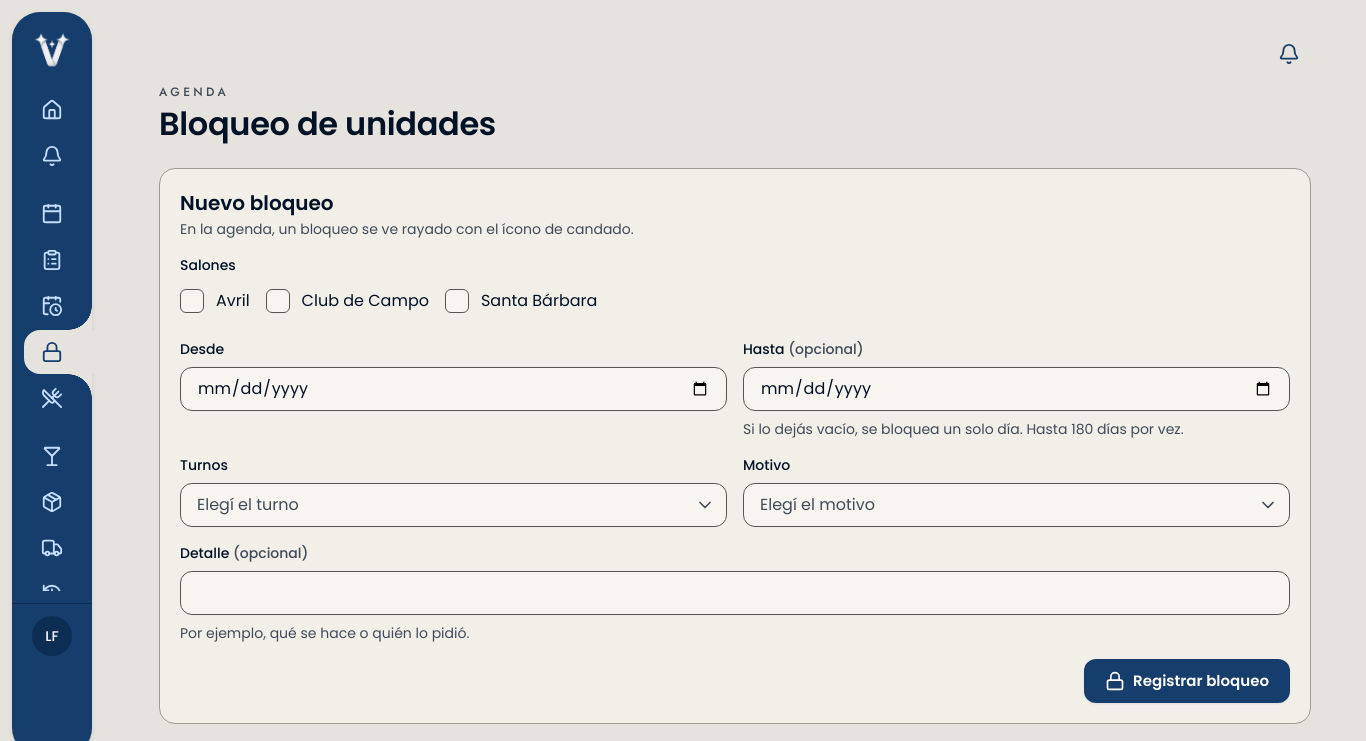
Test: UI-21 · bloqueo de unidades › un solo día y un solo turno: manda hasta vacío y ese turno
This screenshot has width=1366, height=741.
Click the checkbox labelled "Avril": click(192, 301) left=180, top=289, right=204, bottom=313
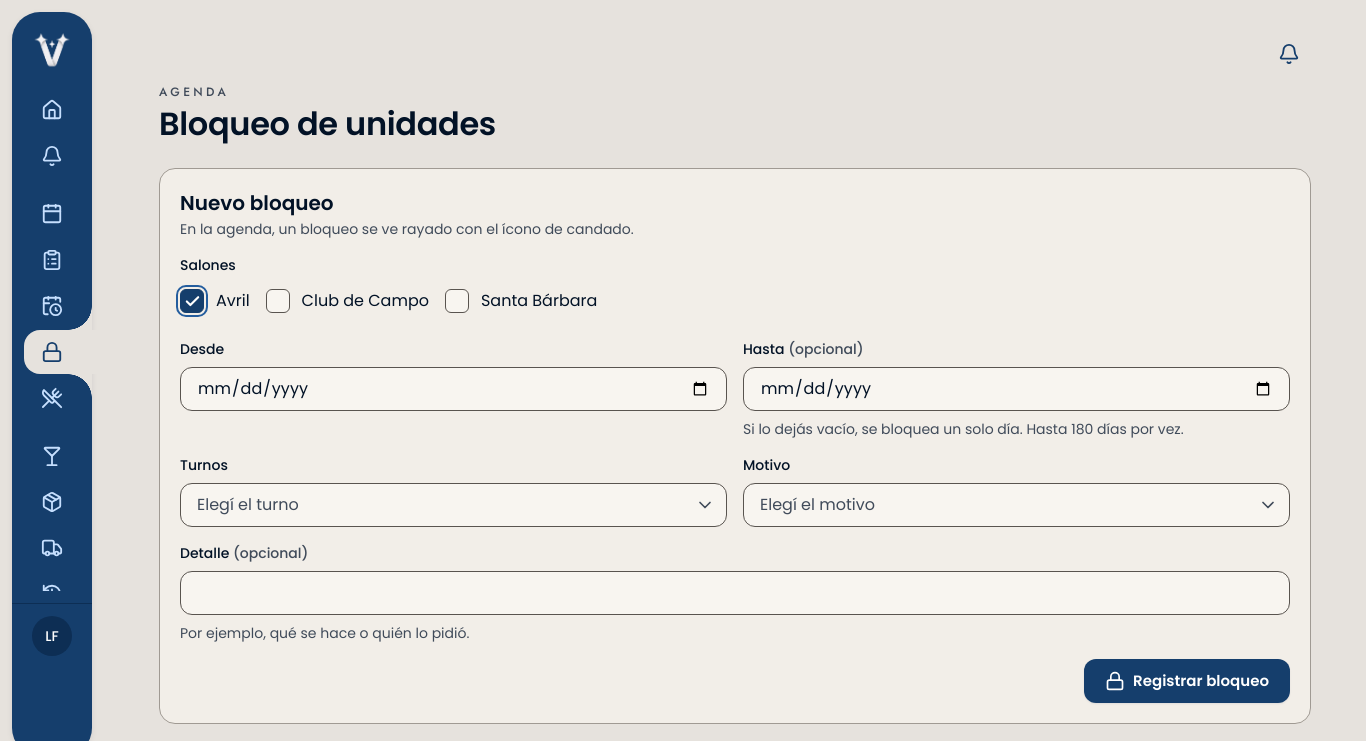
Click the checkbox labelled "Santa Bárbara": click(457, 301) left=445, top=289, right=469, bottom=313
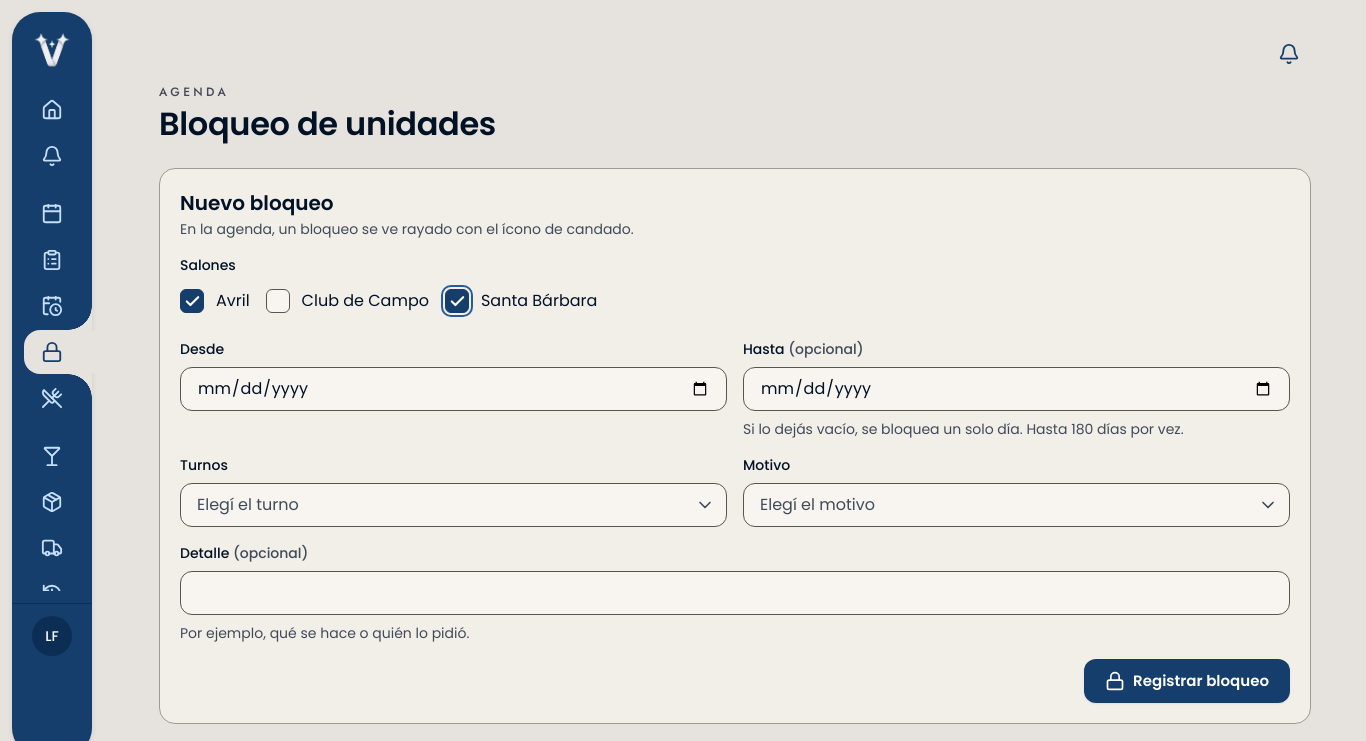
In the date field labelled "Desde": (454, 389) left=180, top=367, right=727, bottom=411, type "2033-12-25"
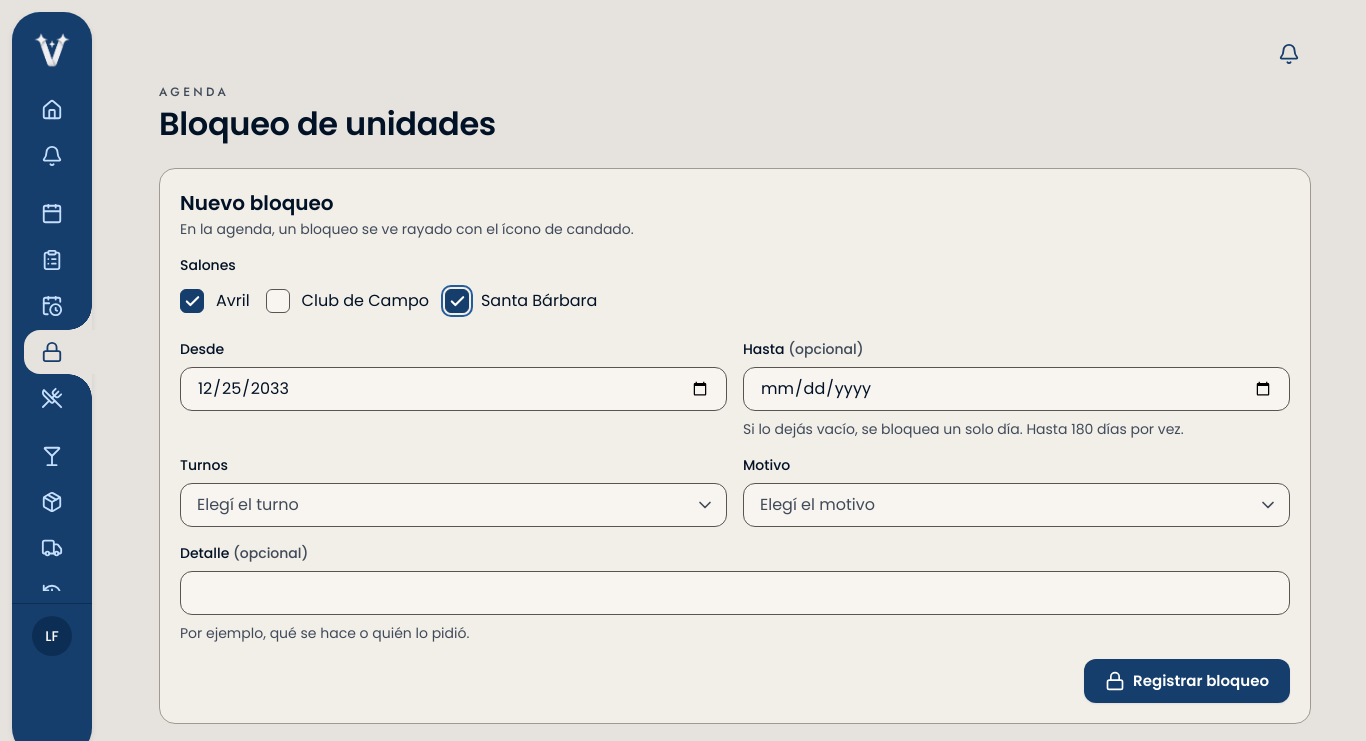
Select "Noche" in the dropdown labelled "Turnos": (454, 505) left=180, top=483, right=727, bottom=527
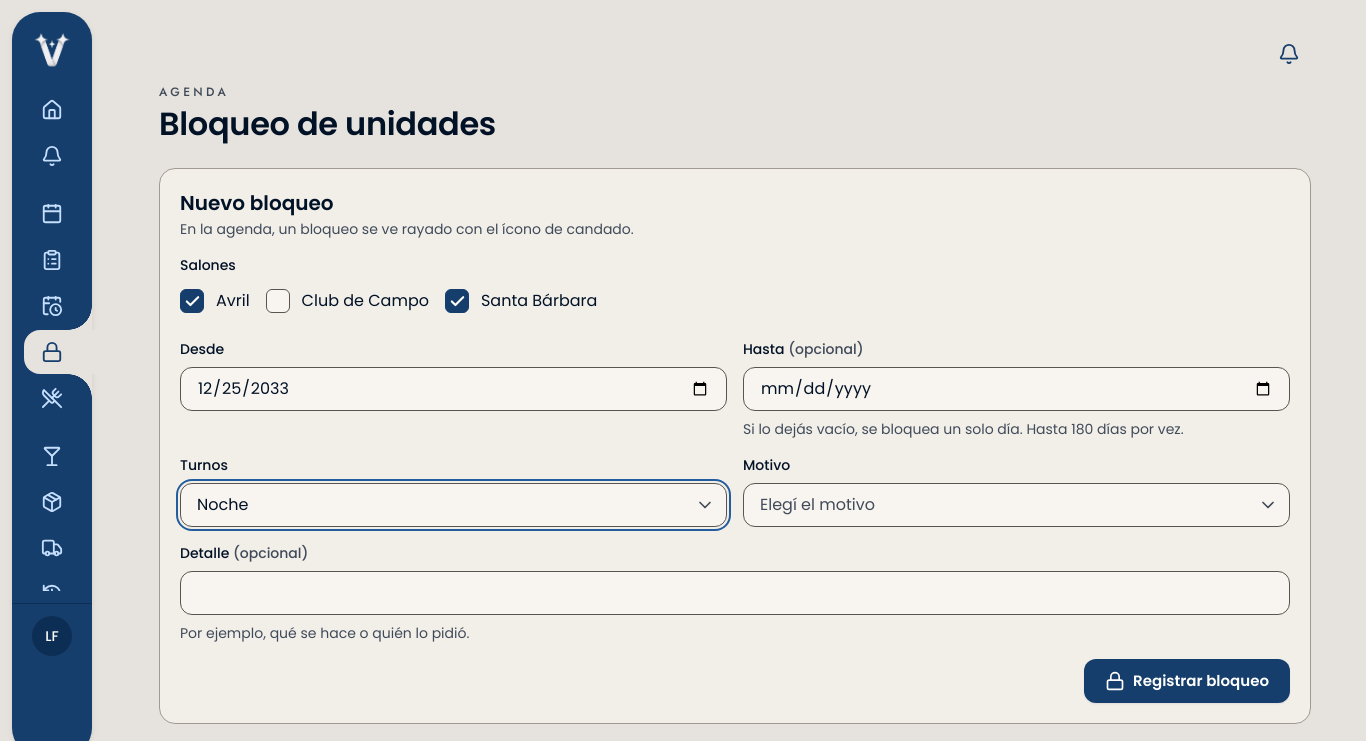
Select "Feriado" in the dropdown labelled "Motivo": (1016, 505) left=743, top=483, right=1290, bottom=527
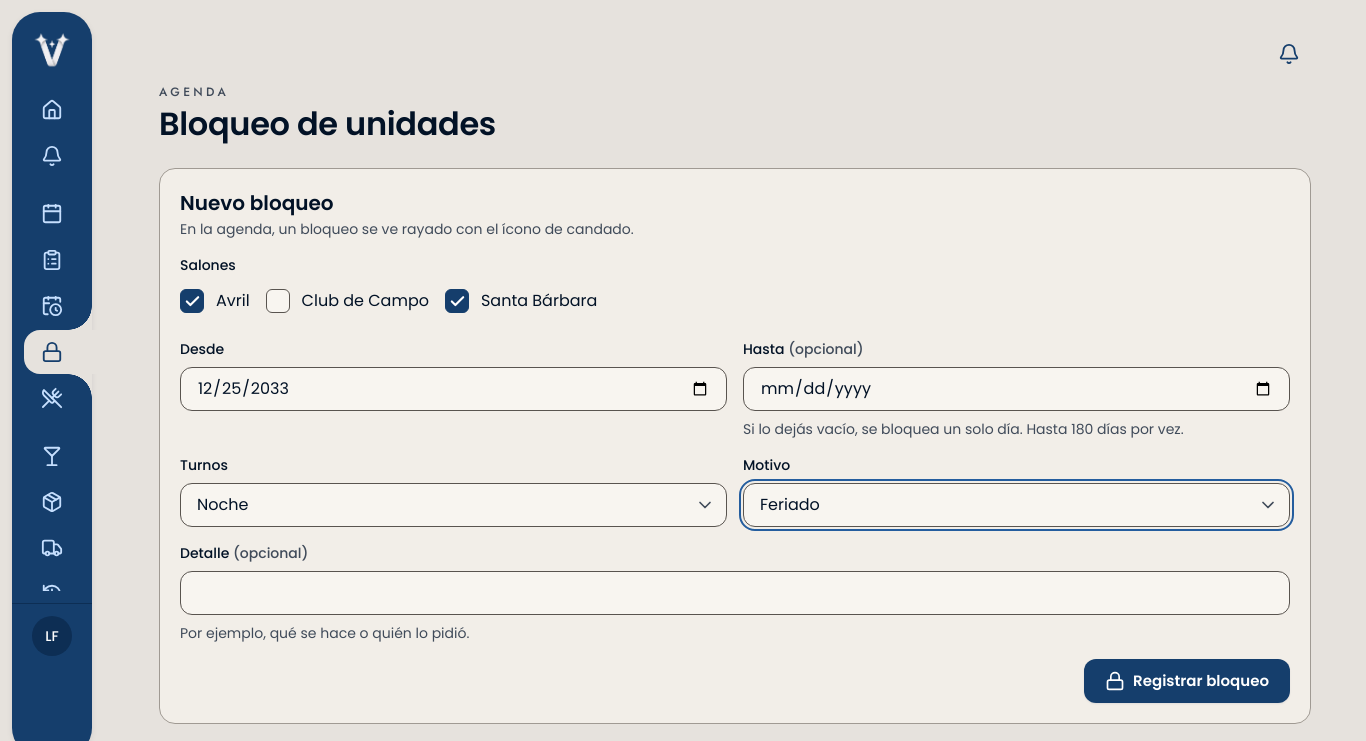
Click the button "Registrar bloqueo": click(1187, 681) left=1084, top=659, right=1290, bottom=703
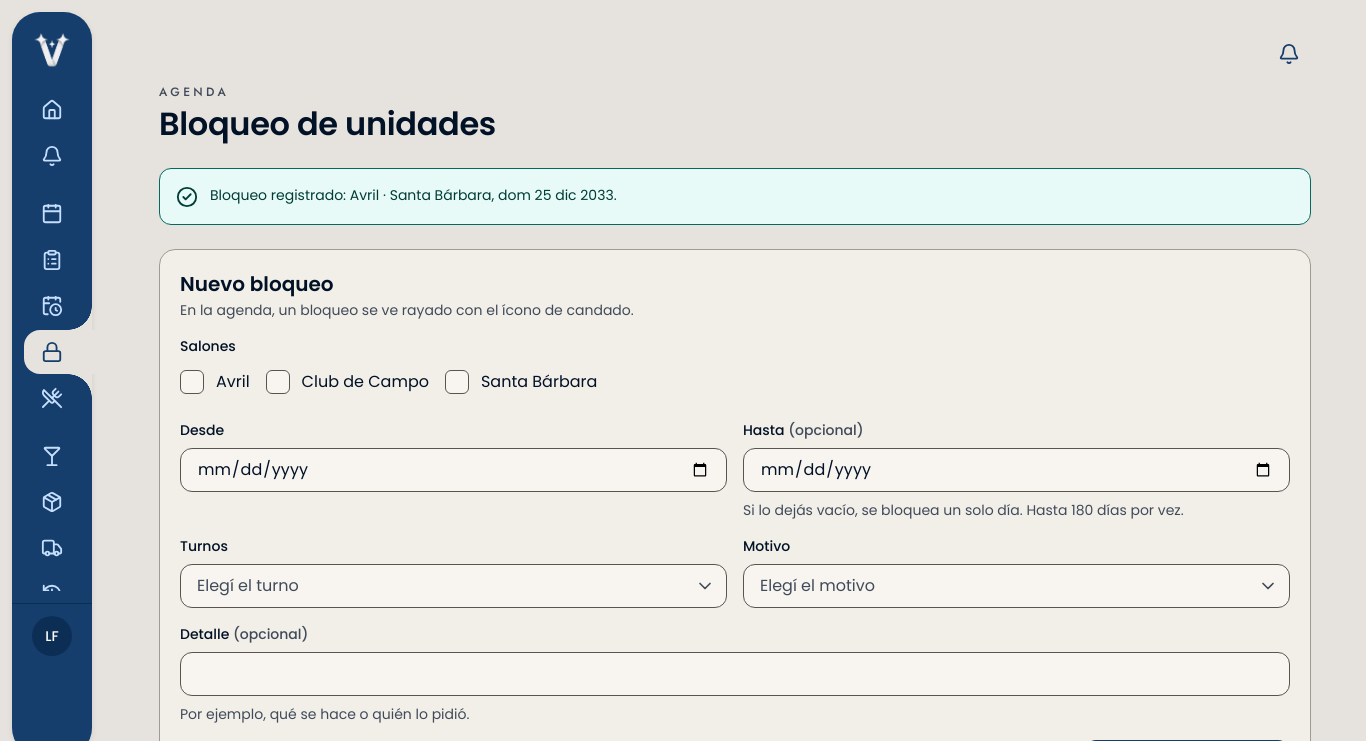
Expected: the text "Bloqueo registrado: Avril · Santa Bárbara, dom 25 dic 2033." is shown, left=210, top=185, right=617, bottom=205
